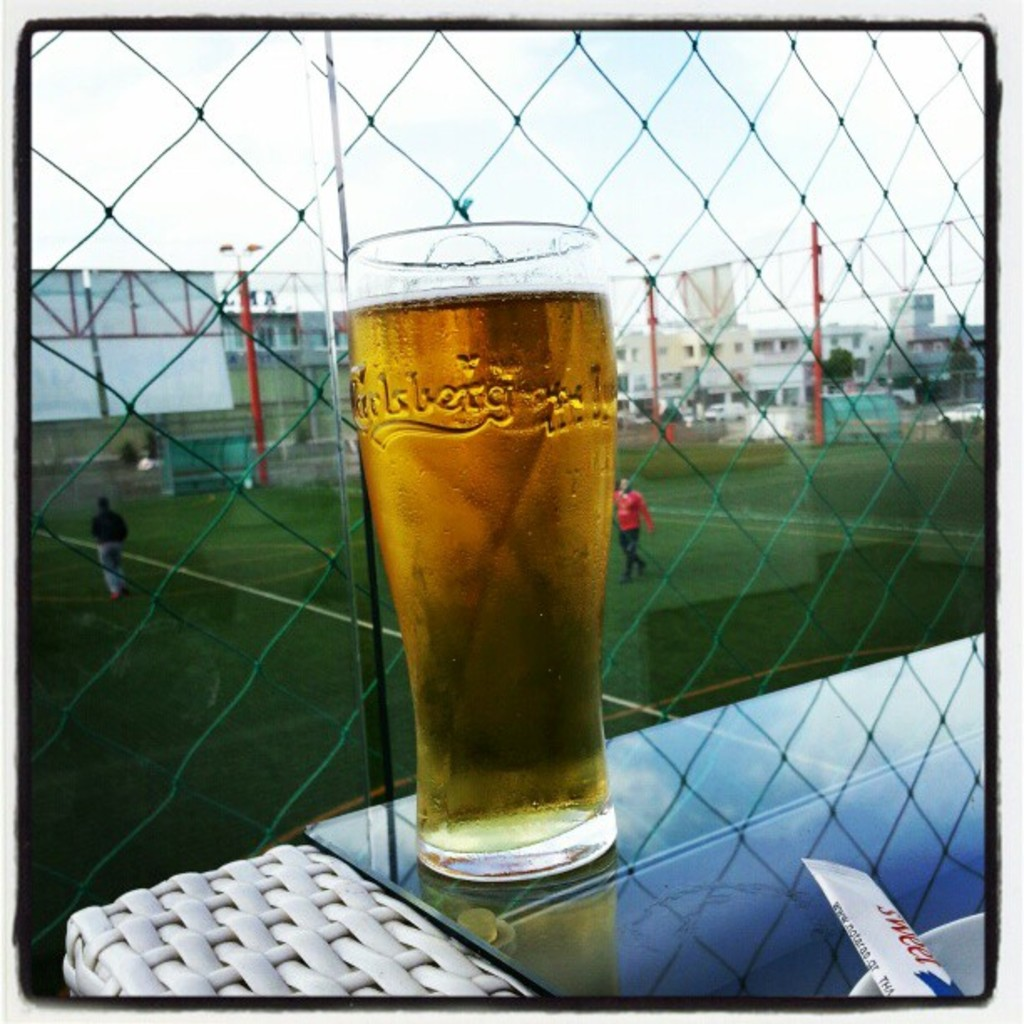Beer: (349, 224, 634, 876)
